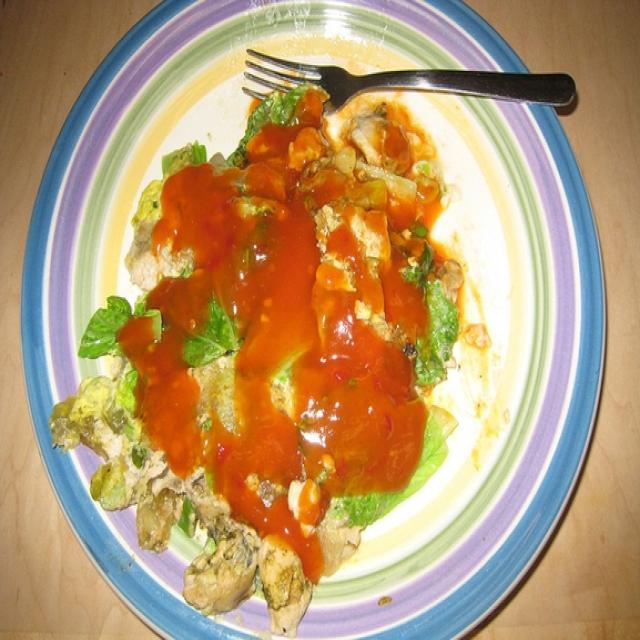熟制海鲜: (40, 13, 608, 621)
